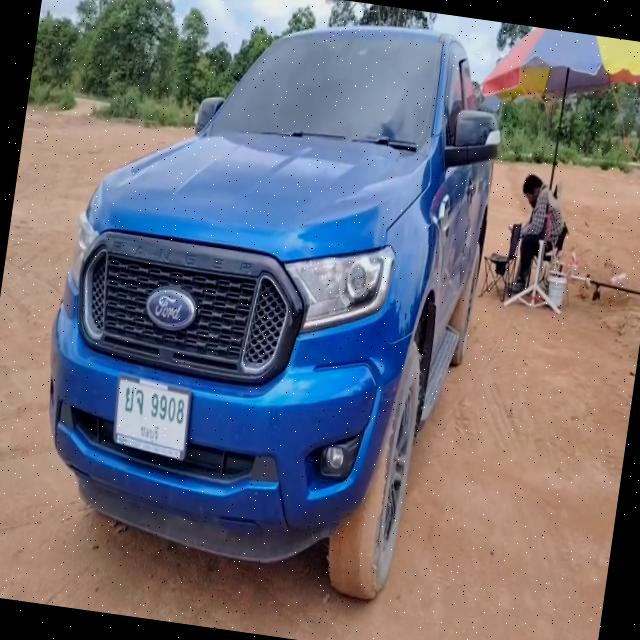Digit: (150, 391, 185, 426)
Licenseplate: (114, 374, 192, 460)
Provincename: (140, 420, 160, 445)
Thaichar: (124, 386, 145, 417), (30, 350, 37, 379)
